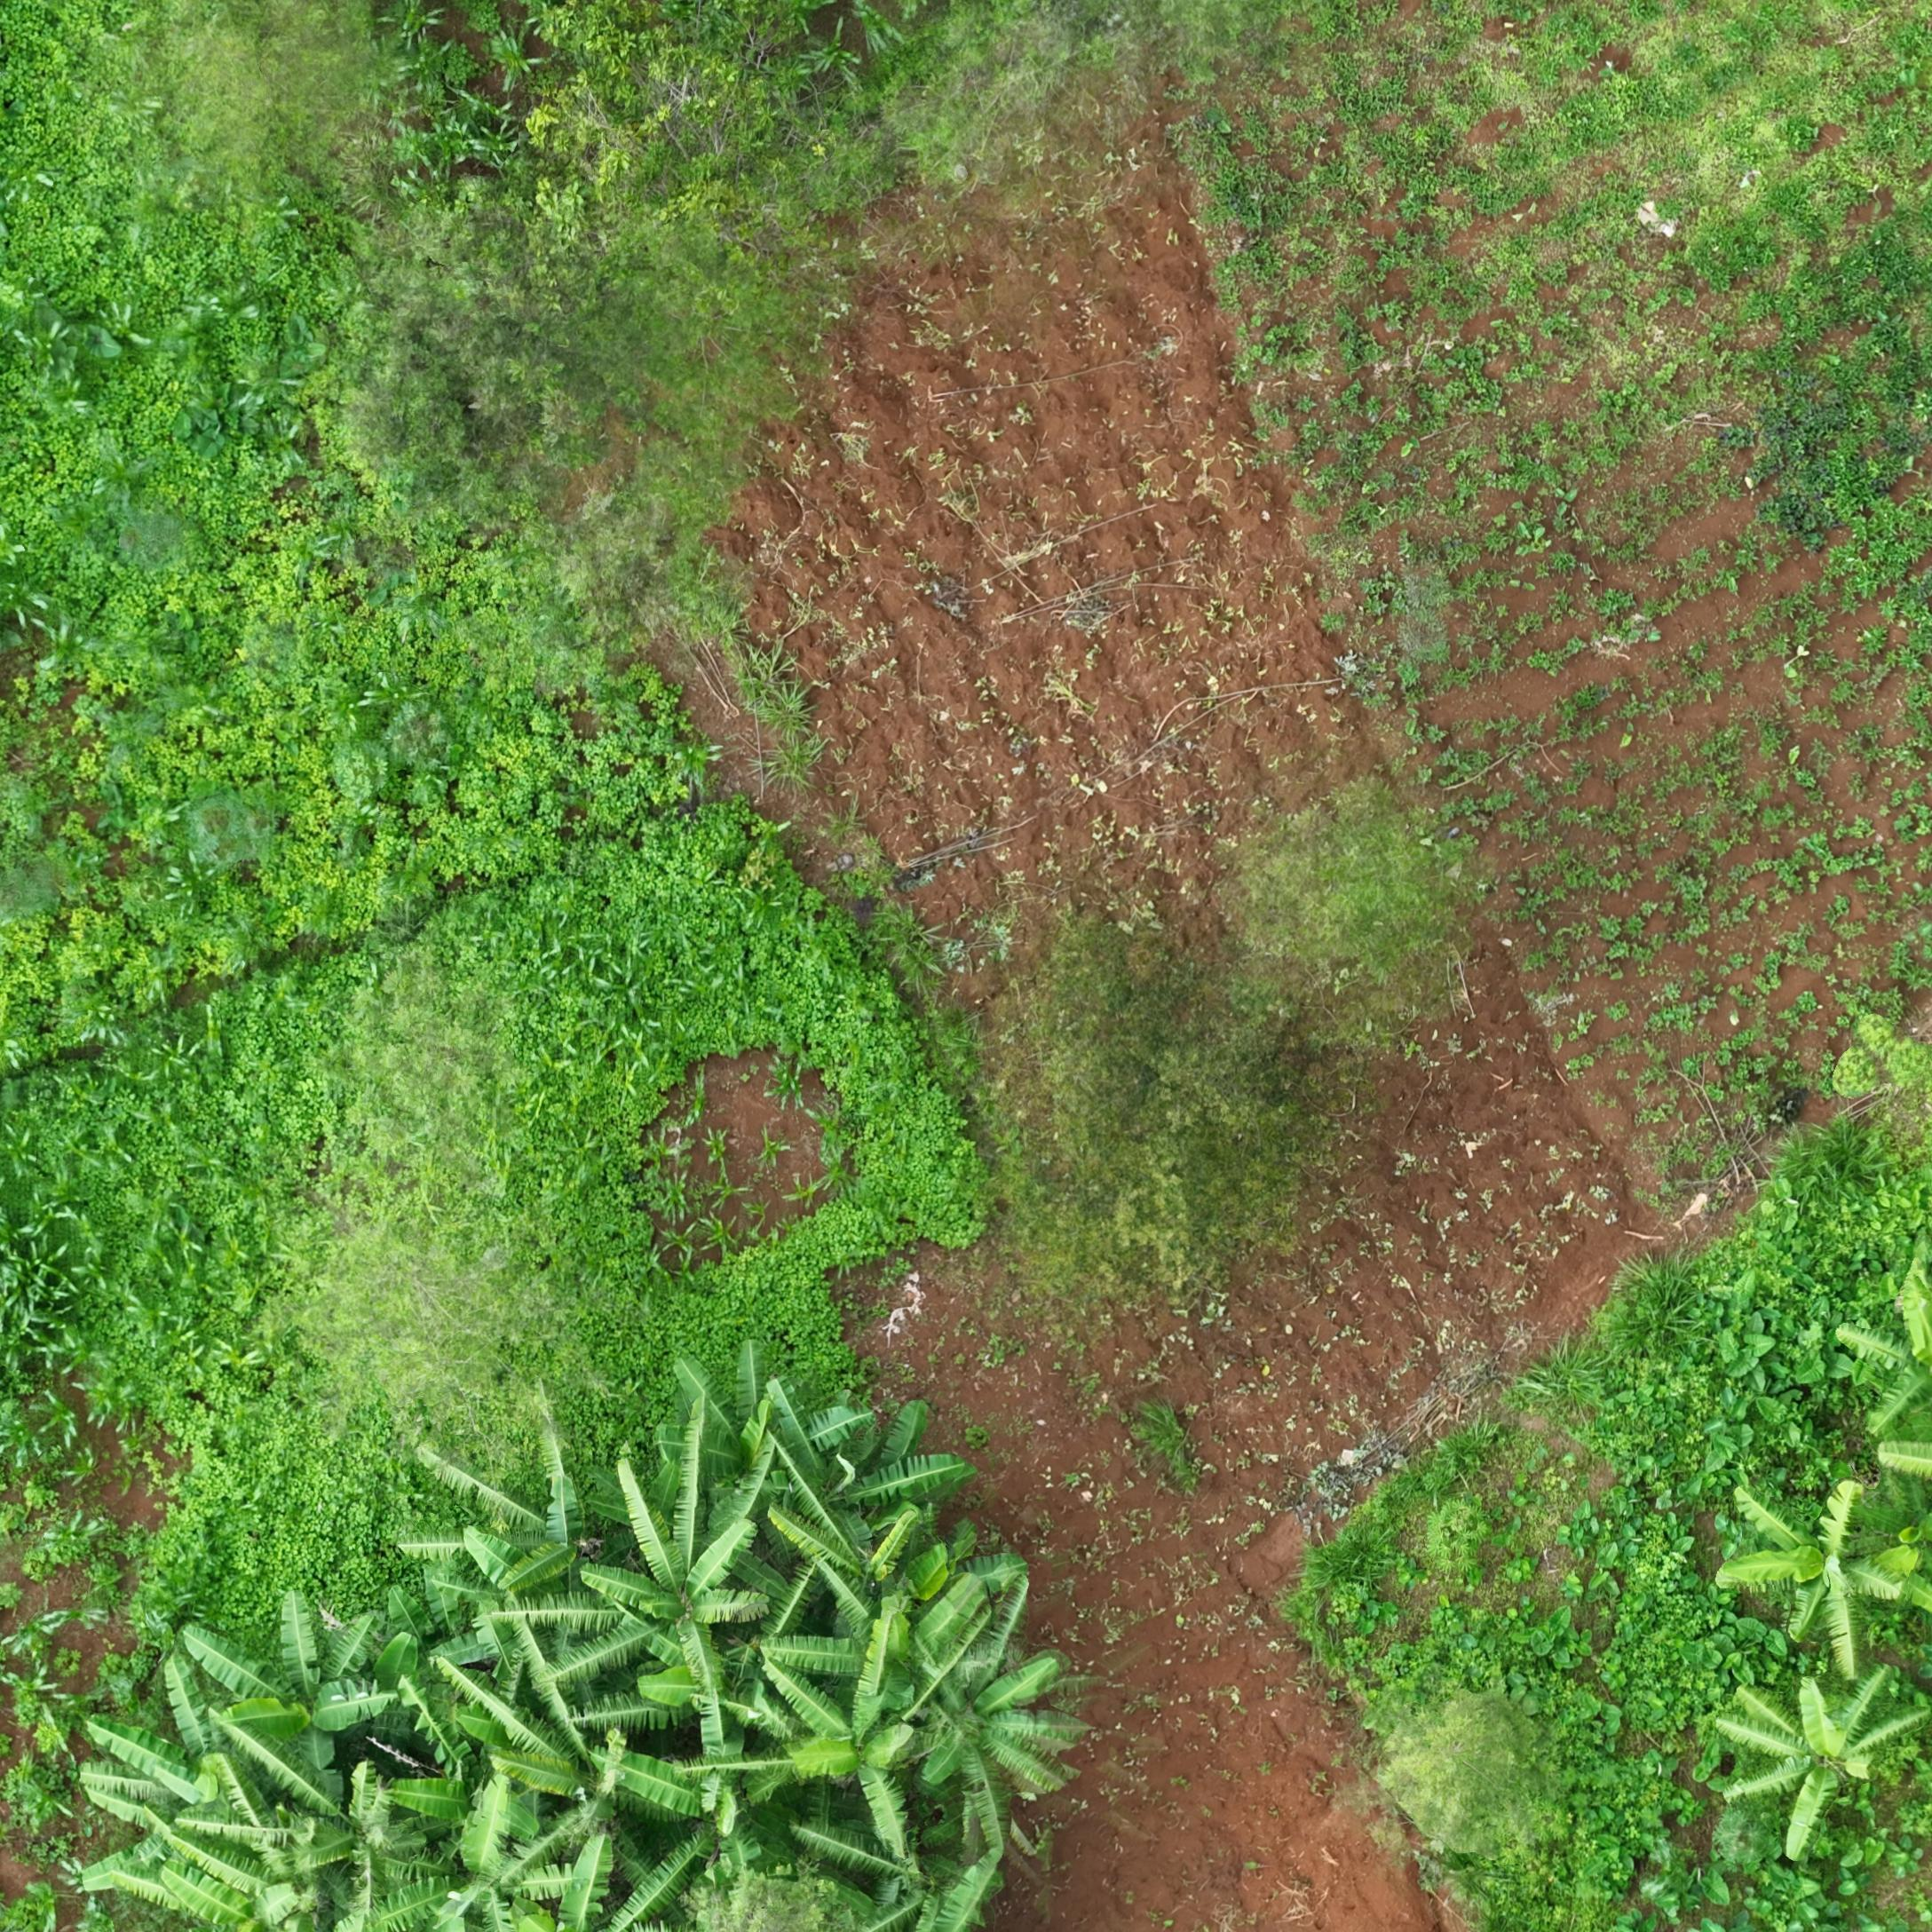Banana: (957, 1722, 1086, 1889), (1811, 1541, 1932, 1718), (705, 1407, 829, 1566), (230, 1702, 372, 1840), (702, 1781, 829, 1932), (638, 1579, 770, 1722), (426, 1794, 565, 1923), (1817, 1741, 1932, 1896), (816, 1730, 926, 1882), (816, 1485, 943, 1605), (849, 1575, 970, 1698), (302, 1822, 432, 1932)
